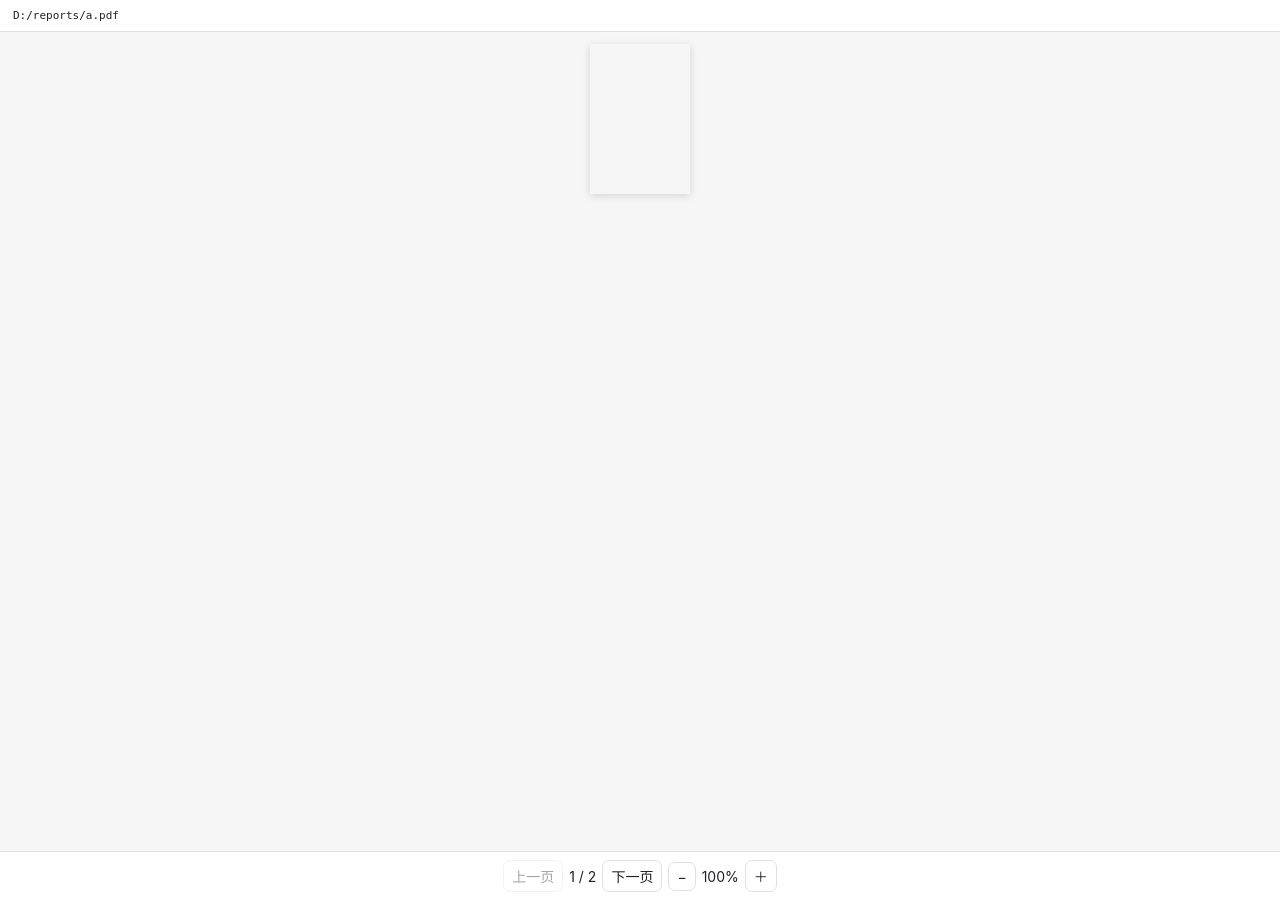
Scenario: 读取 PDF 并允许翻页和缩放
Expected: the text "1 / 2" is shown, [569,868,596,884]
Click the button "下一页" at [632, 876], box [602,860,662,892]
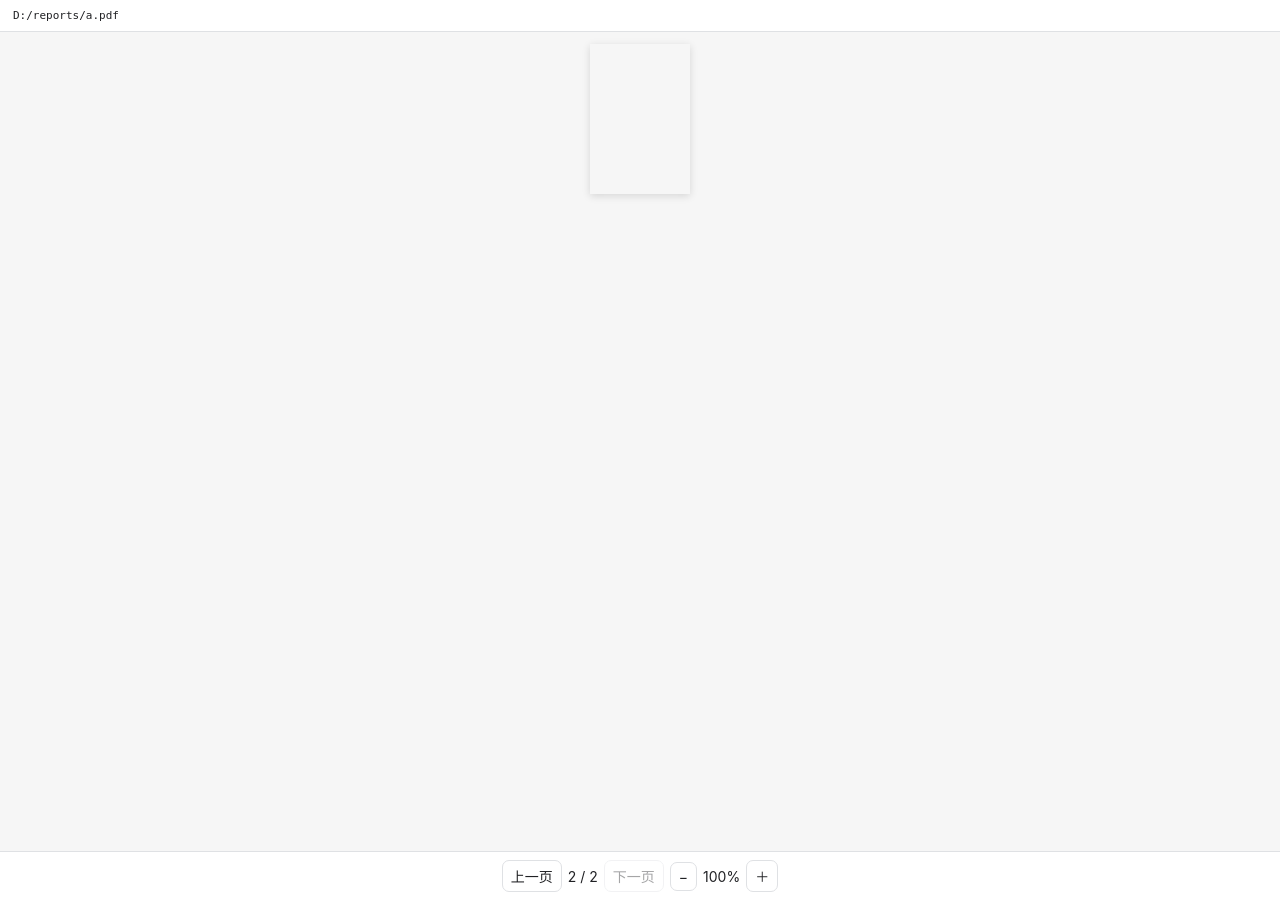
Expected: the text "2 / 2" is shown, [568,868,598,884]
Click the button named "放大" at [762, 876], box [746,860,778,892]
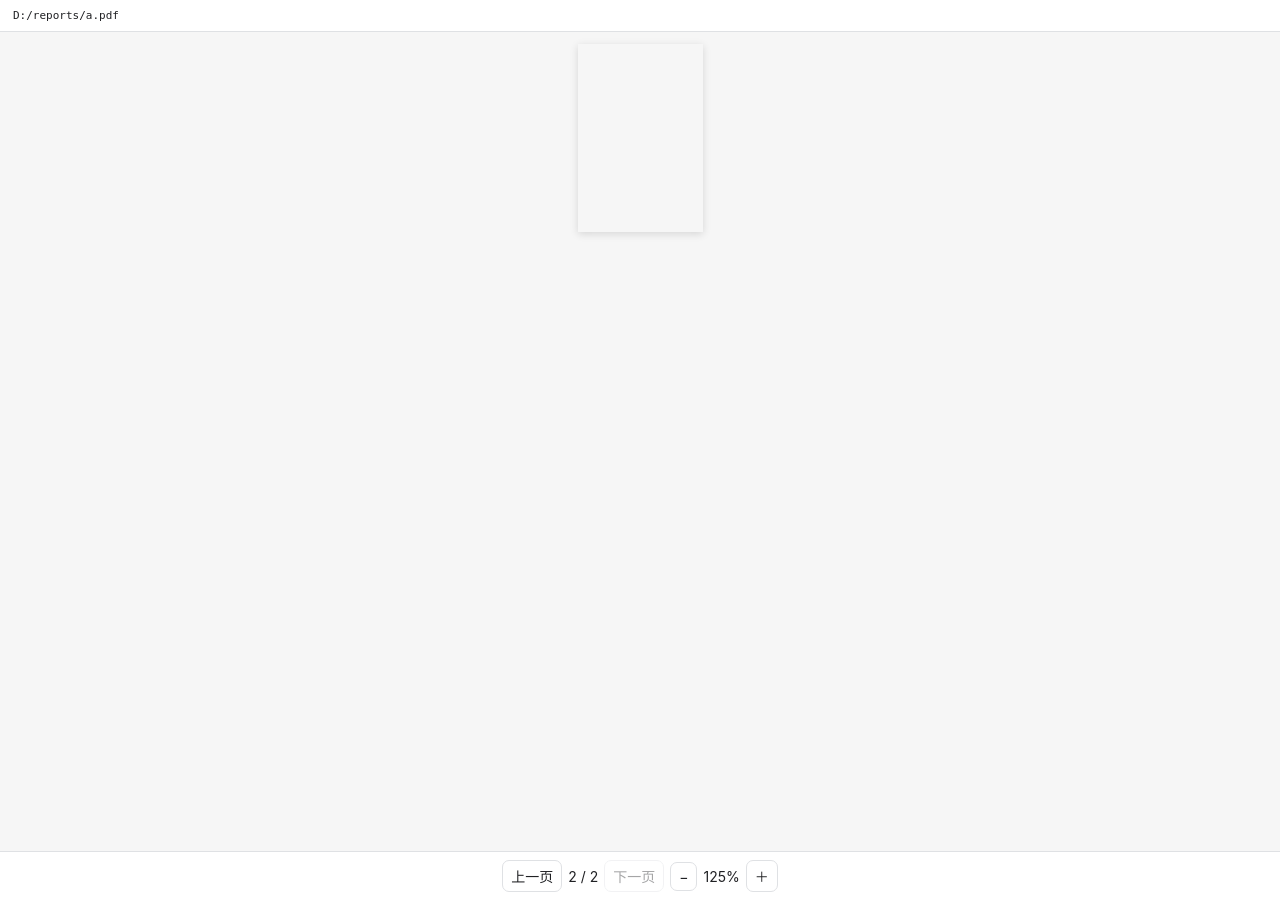
Expected: the text "125%" is shown, [704,868,740,884]
